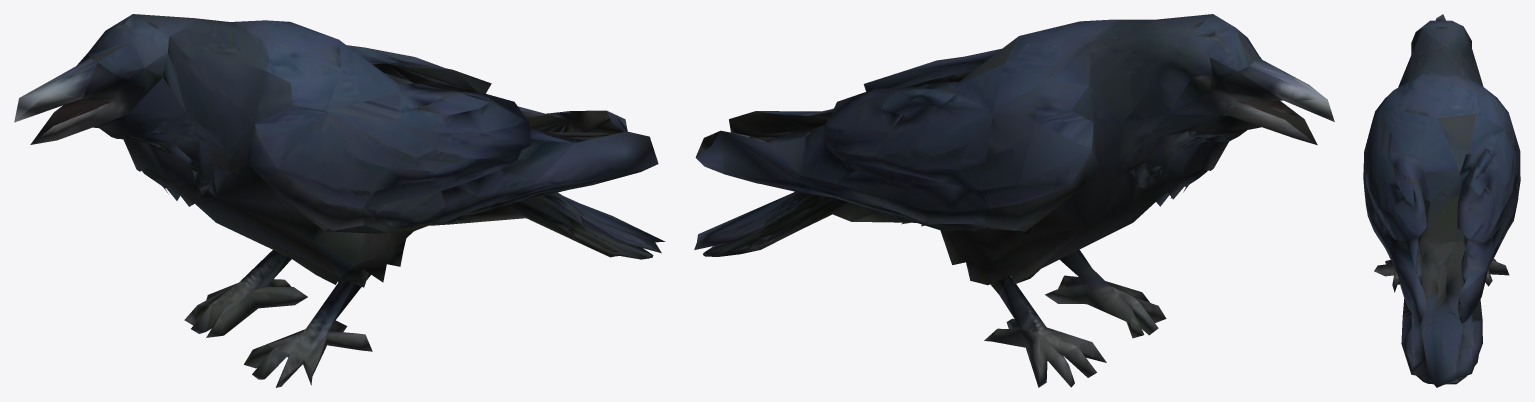
Rendered from raven.glb.
3 views of the same model, side by side, from view 1: azimuth 30°, elevation 25°; view 2: azimuth 150°, elevation 25°; view 3: azimuth 270°, elevation 25° (orthographic). The views are drawn at different scales.
Parts seen in each view (by area): view 1: node_0; view 2: node_0; view 3: node_0.
Part boxes in pixels (x1=…): node_0: x1=14, y1=14, x2=665, y2=387; node_0: x1=694, y1=14, x2=1334, y2=387; node_0: x1=1363, y1=14, x2=1520, y2=387.
Bounding box in the file's own units: 2 × 1.05 × 0.6861.
Materials: 1 (1 with a texture image).
